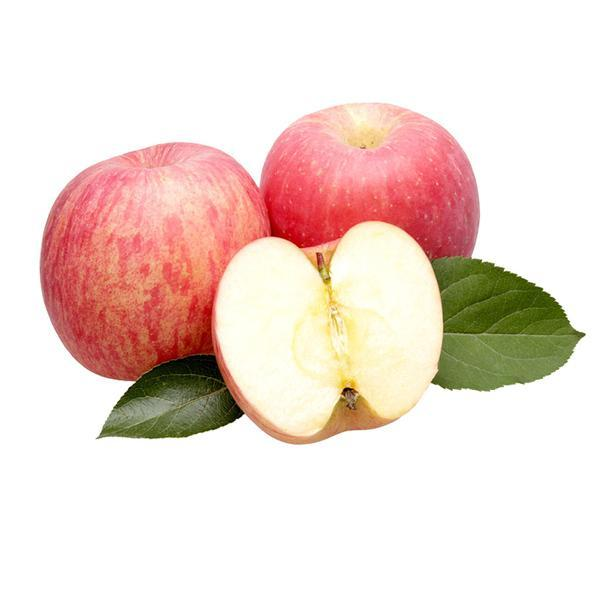apple: (39, 141, 272, 385), (252, 101, 480, 267)
